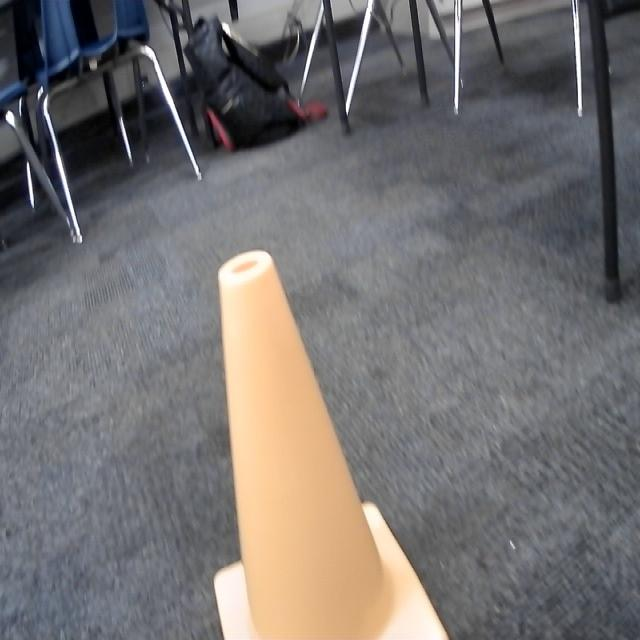cone: (210, 249, 451, 640)
